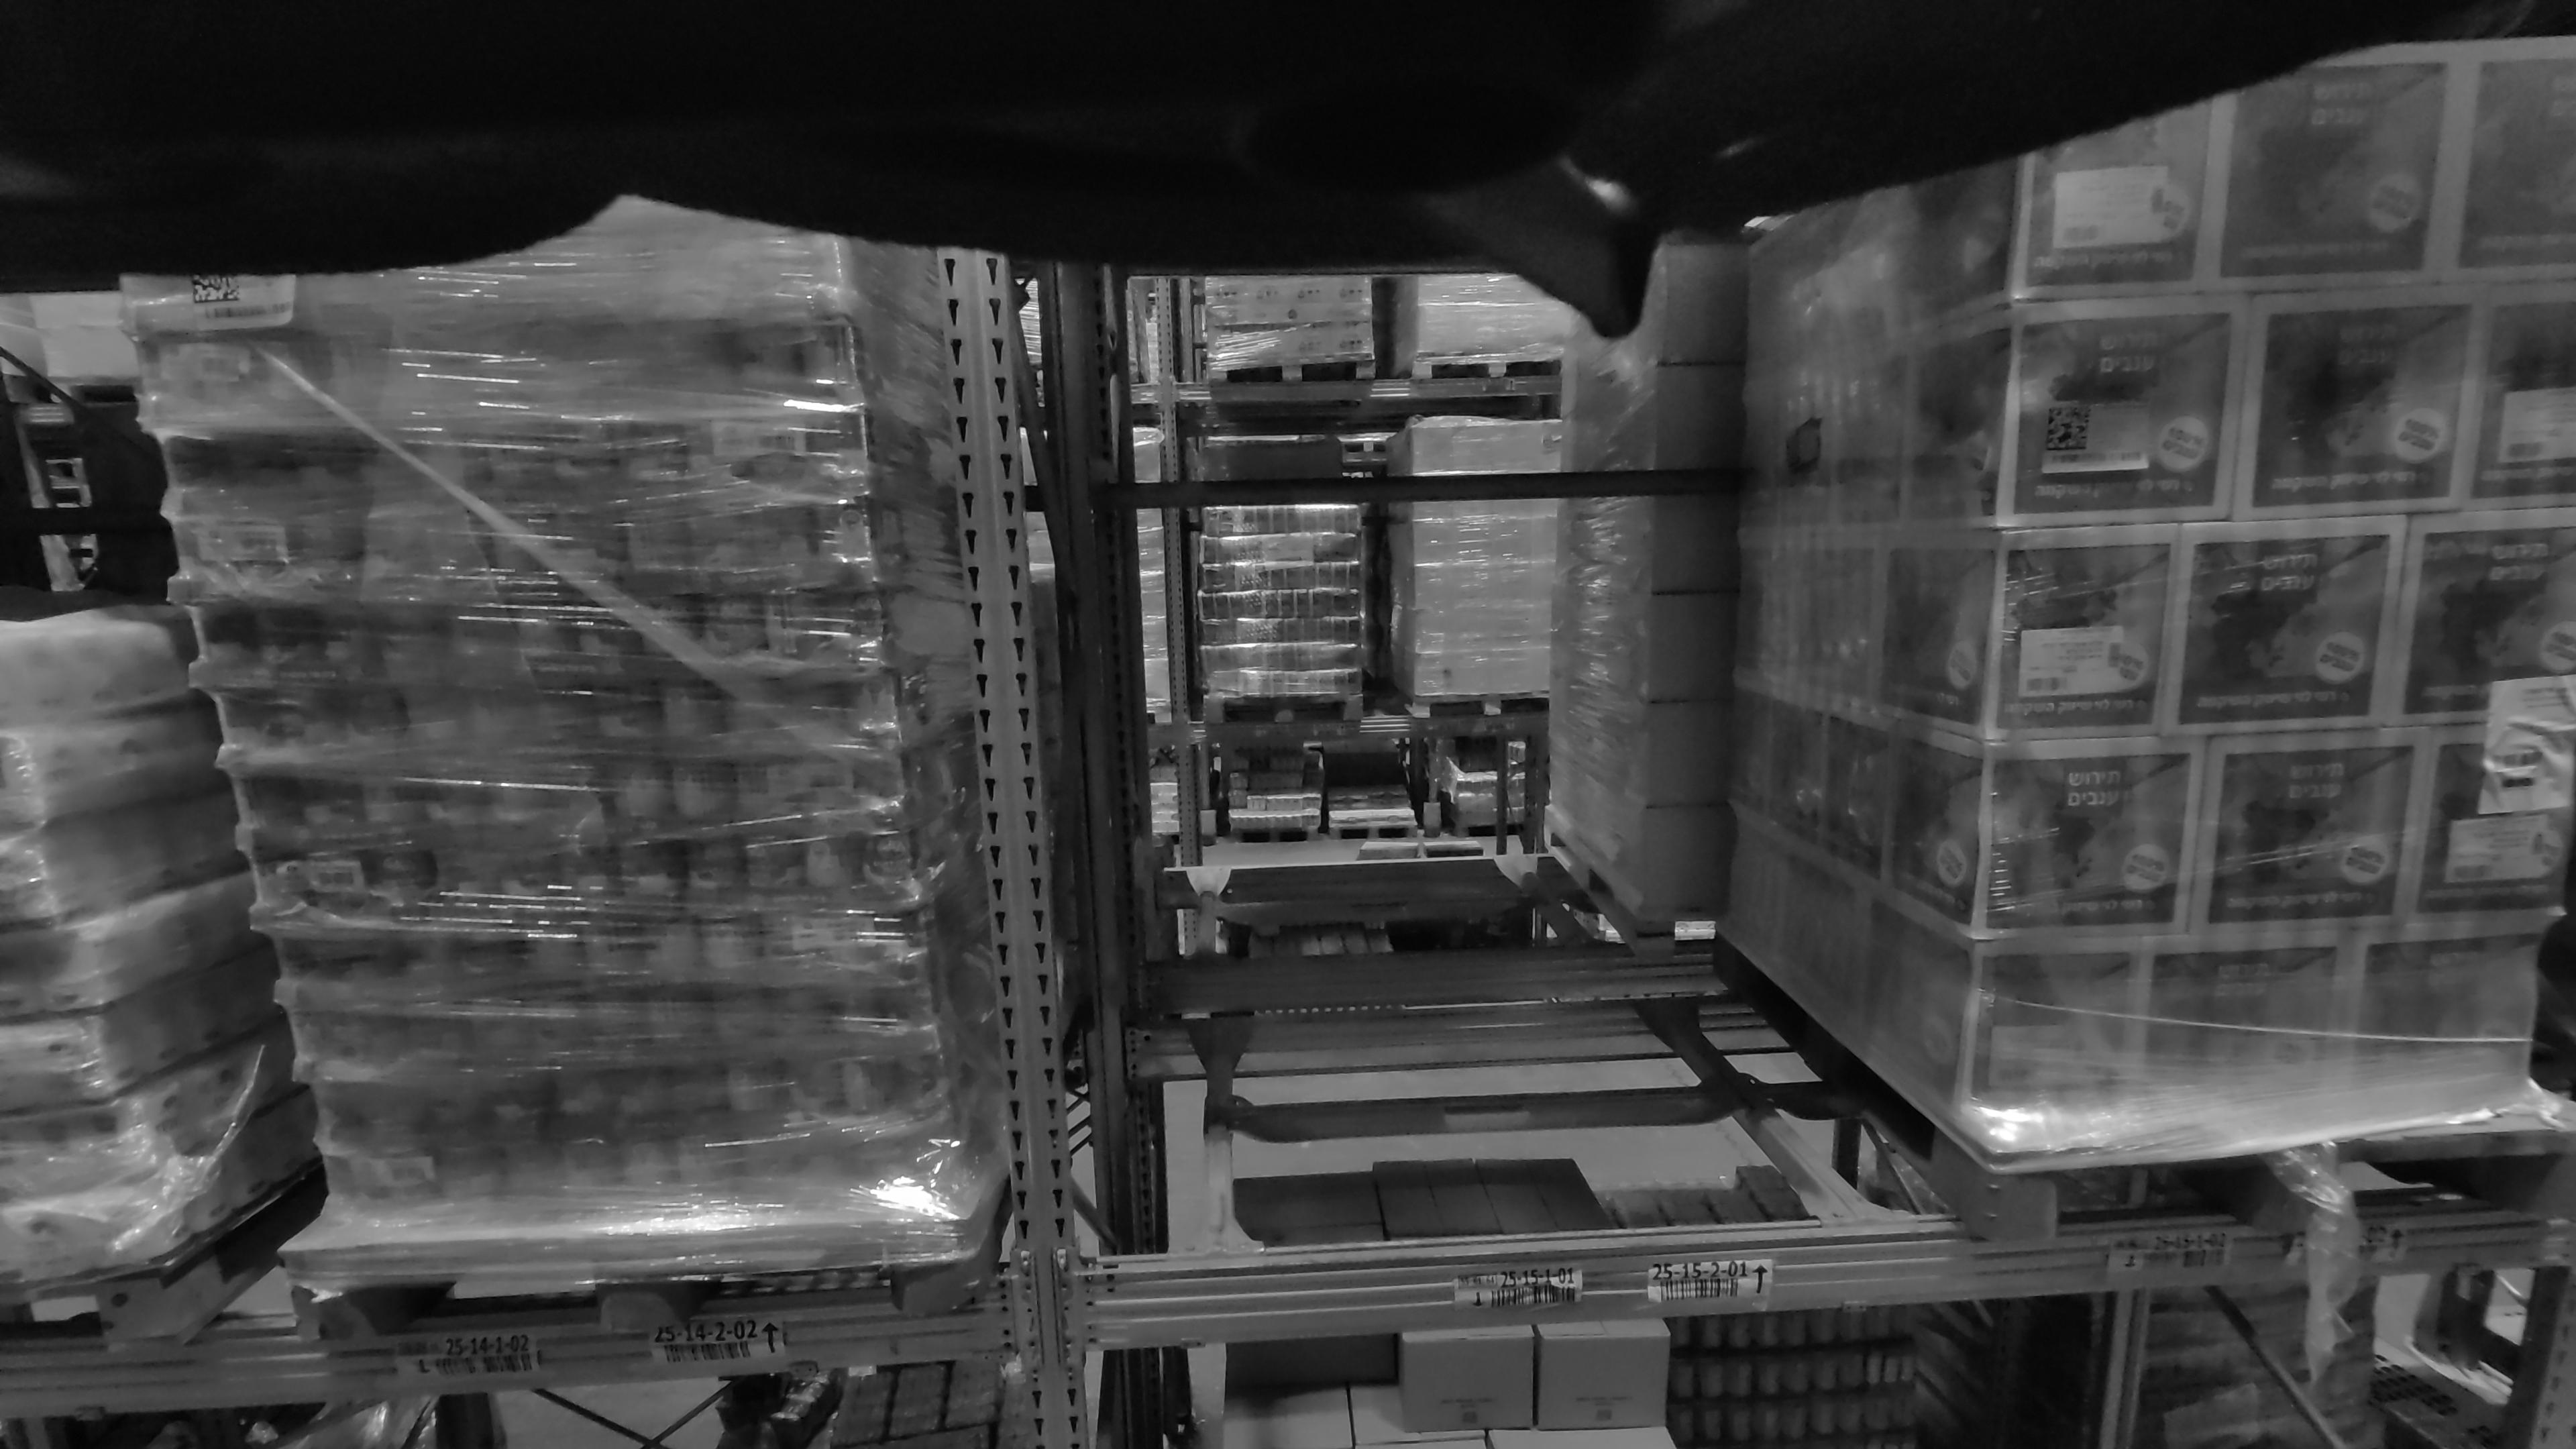empty-shelf: (1127, 202, 1838, 1235), (1154, 264, 1599, 959)
